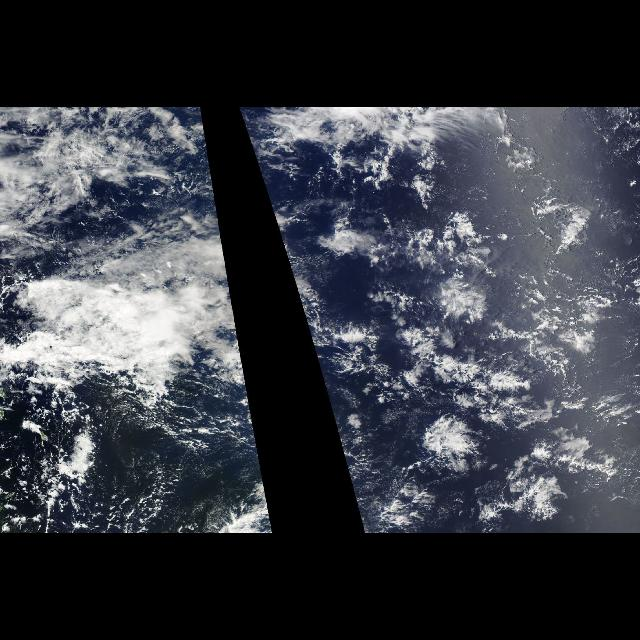Flower: (286, 180, 626, 522)
